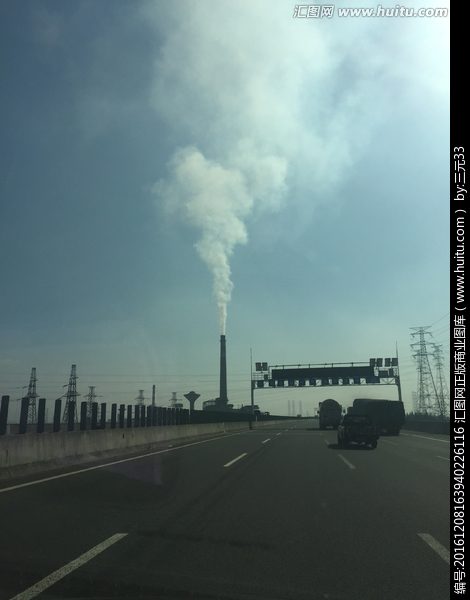dust: (153, 147, 276, 342)
